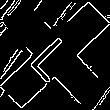L_NE: (26, 26, 84, 84)
